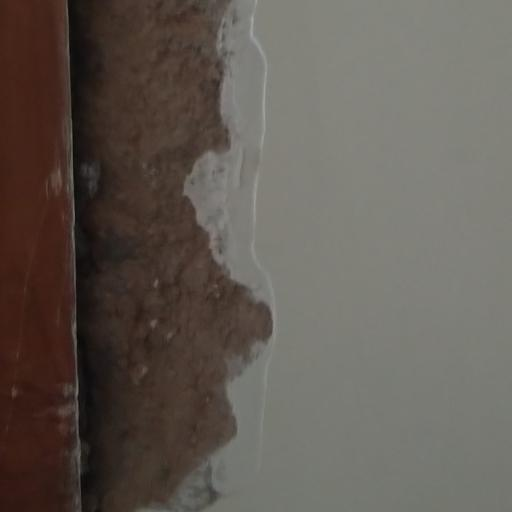spalling: (71, 1, 274, 512)
